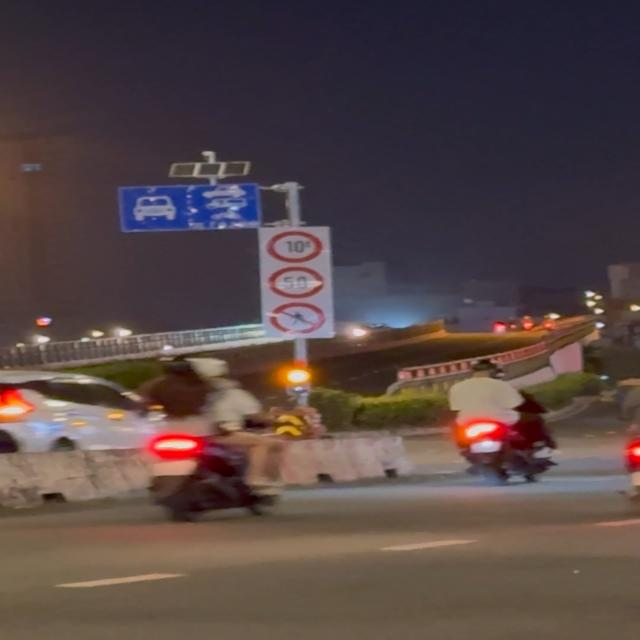Bien bao cam nguoi di bo: (269, 300, 330, 335)
Bien bao toc do toi da cho phep: (266, 265, 329, 301)
